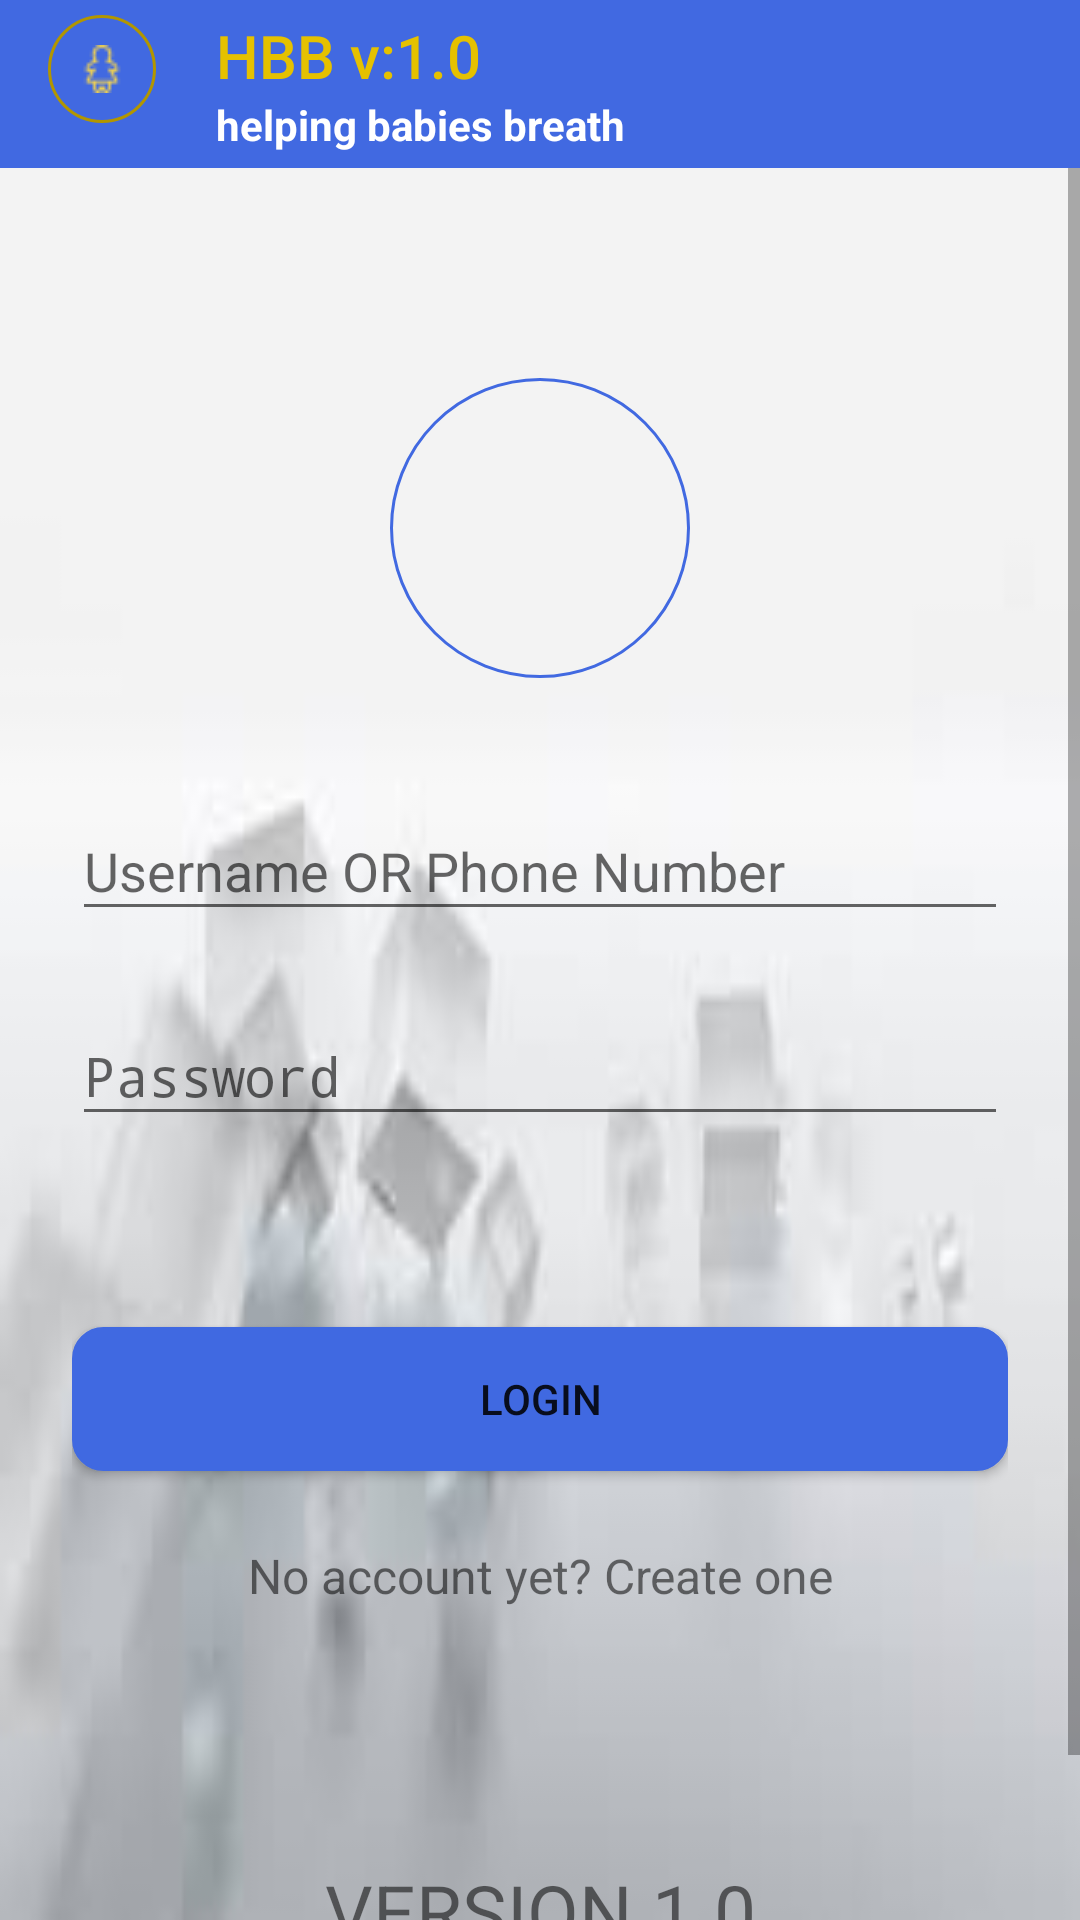

Point at icon controls on the screen. Image size 1080 × 1920, points as (x,y).
babe girl: (102,69)
